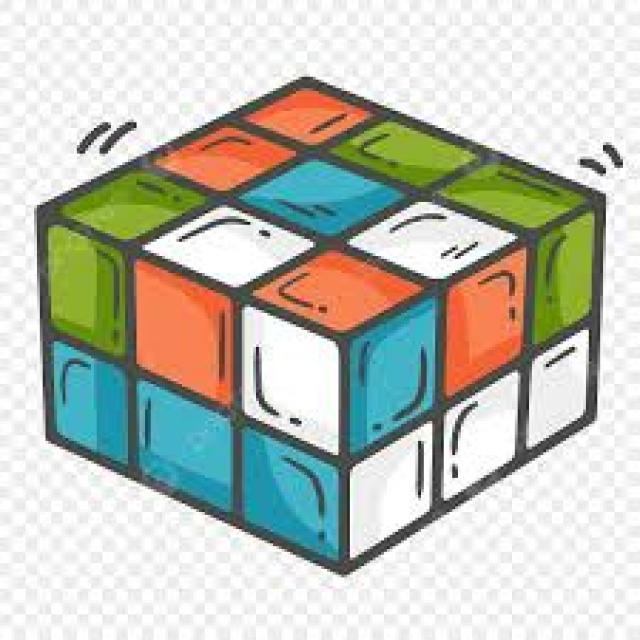Rub: (35, 74, 606, 574)
